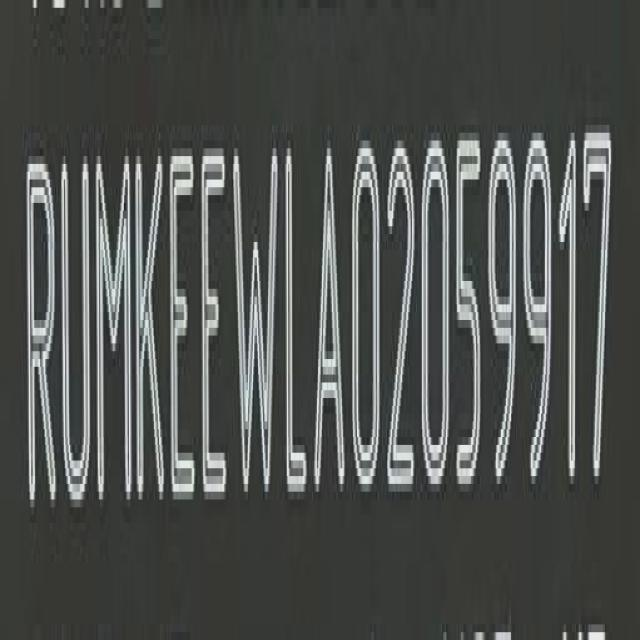0: (350, 136, 382, 500), (422, 133, 452, 497)
1: (557, 130, 581, 494)
2: (386, 139, 417, 491)
5: (454, 116, 484, 500)
7: (583, 124, 613, 494)
9: (487, 119, 519, 508), (522, 130, 555, 503)
A: (310, 153, 349, 497)
E: (168, 121, 198, 526), (200, 144, 229, 520)
K: (133, 119, 168, 512)
L: (283, 147, 309, 509)
M: (94, 133, 133, 514)
R: (23, 127, 59, 529)
U: (59, 138, 94, 512)
W: (232, 138, 283, 514)
